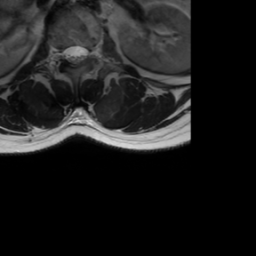CCS_normal: (70, 38, 78, 70)
LFS_normal: (87, 38, 96, 65)
LLS_normal: (78, 38, 87, 66)
RFS_normal: (54, 38, 62, 67)
RLS_normal: (62, 38, 70, 68)
